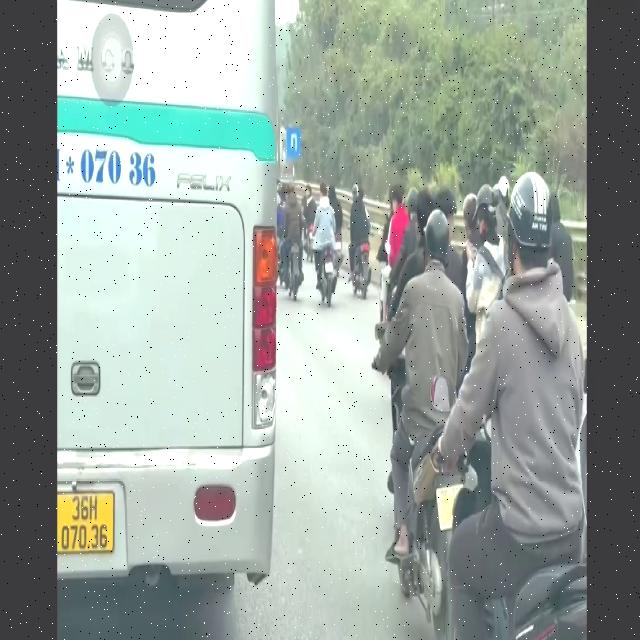helmet: (503, 170, 558, 310), (422, 203, 449, 292)
